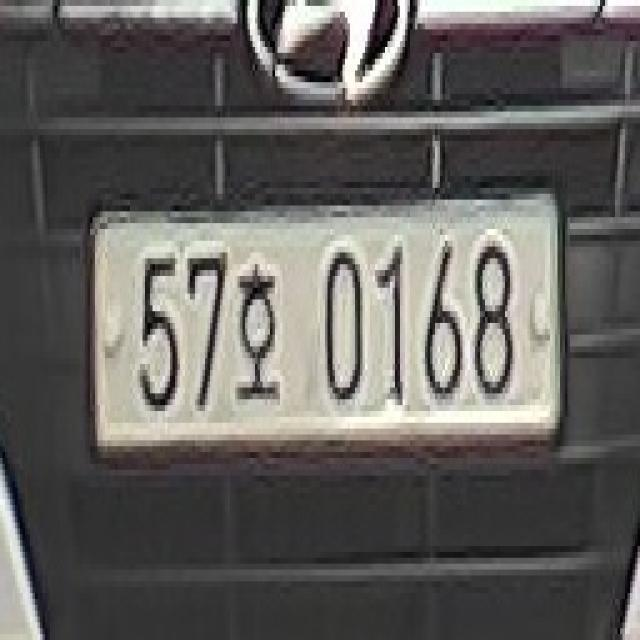0: (320, 235, 366, 404)
1: (372, 236, 408, 411)
5: (138, 247, 180, 417)
6: (414, 225, 466, 409)
7: (184, 244, 230, 411)
8: (471, 224, 515, 404)
ho: (234, 258, 282, 410)
license_plate: (88, 178, 568, 450)
